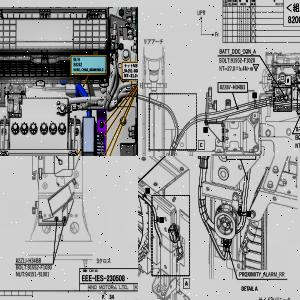PartNumber: (15, 256, 42, 264), (25, 270, 50, 278), (28, 264, 52, 271), (219, 84, 246, 90), (231, 57, 256, 63), (123, 67, 138, 73)
